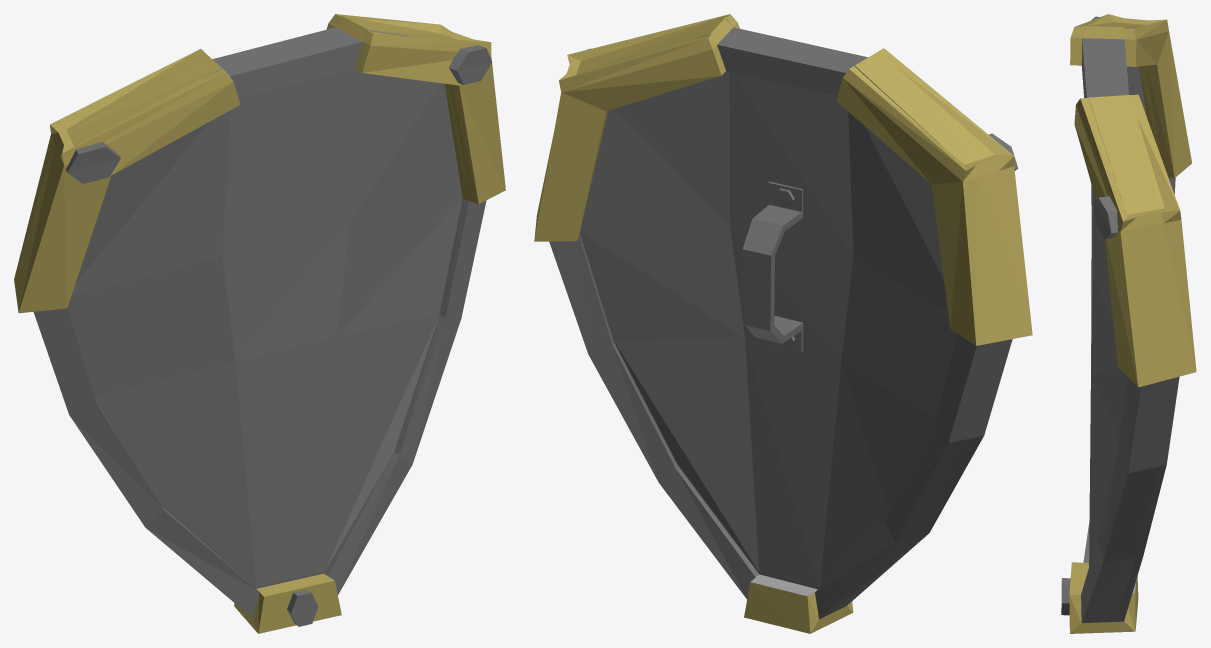
Rendered from Shield.fbx.
The picture shows the model from 3 angles, left to right: view 1: azimuth 30°, elevation 25°; view 2: azimuth 150°, elevation 25°; view 3: azimuth 270°, elevation 25°; orthographic projection. The views are drawn at different scales.
Visible parts, largest first — view 1: pCylinder8; view 2: pCylinder8; view 3: pCylinder8.
Boxes of the visible parts, bbox=[...] form: pCylinder8: bbox=[14, 14, 505, 633]; pCylinder8: bbox=[534, 14, 1032, 633]; pCylinder8: bbox=[1061, 14, 1196, 633].
Bounding box in the file's own units: 13.76 × 15.29 × 3.38.
